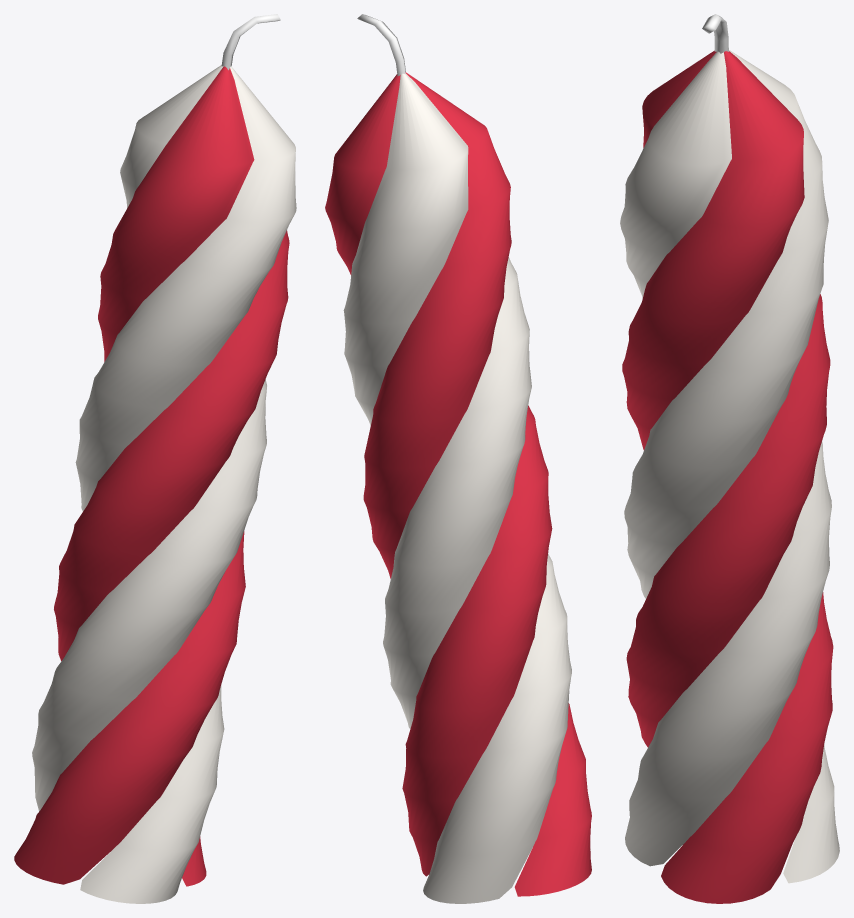
Rendered from screw-candle.glb.
3 renders of one model, left to right at view 1: azimuth 30°, elevation 25°; view 2: azimuth 150°, elevation 25°; view 3: azimuth 270°, elevation 25°, orthographic. The views are drawn at different scales.
Parts seen in each view (by area): view 1: Circle.001_Circle.003; view 2: Circle.001_Circle.003; view 3: Circle.001_Circle.003.
Part boxes in pixels (left/top/right/bottom): Circle.001_Circle.003: left=14, top=14, right=296, bottom=903; Circle.001_Circle.003: left=325, top=14, right=591, bottom=903; Circle.001_Circle.003: left=620, top=14, right=839, bottom=903.
Size of the model in its own units: 0.3032 by 0.951 by 0.2063.
